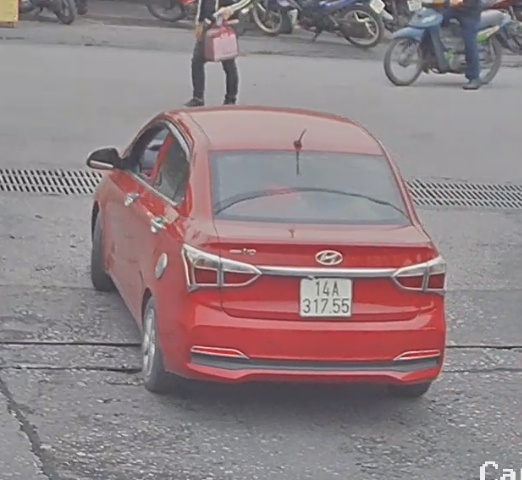vehicle plate: (295, 271, 354, 316)
